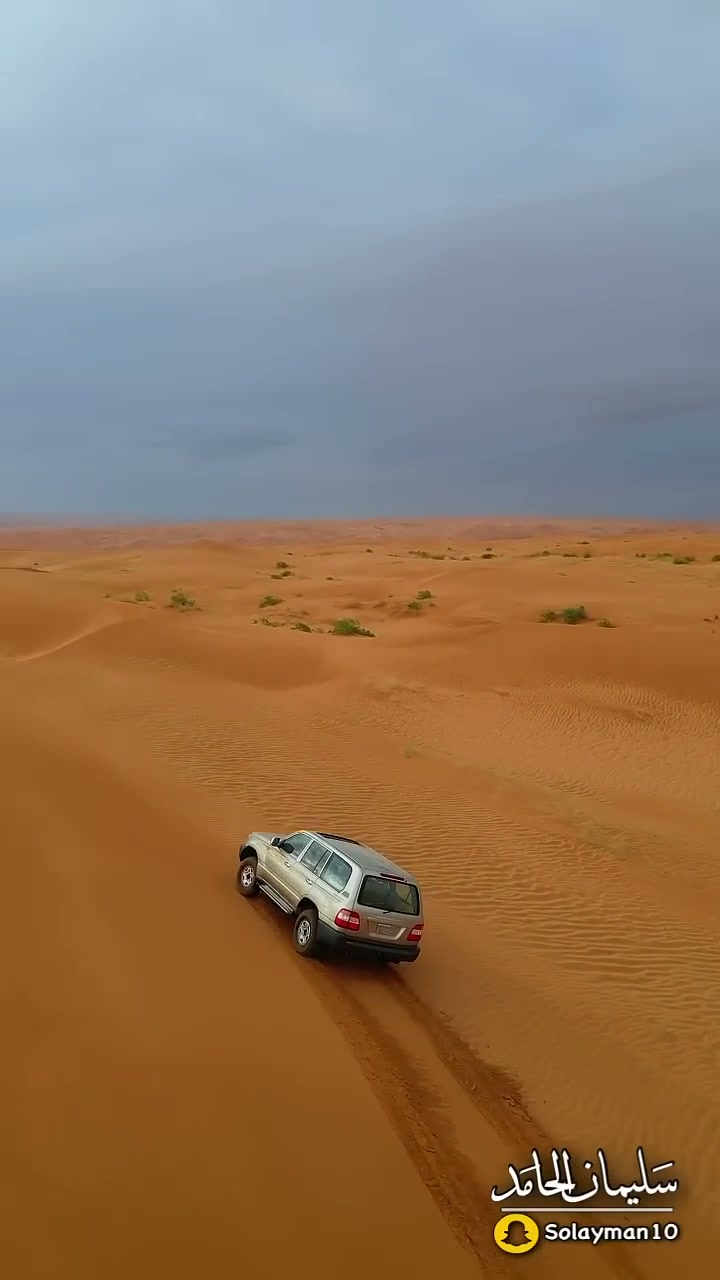vehicle_track: (293, 957, 552, 1276)
